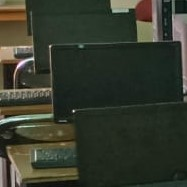monitor: (50, 40, 180, 125), (75, 98, 187, 187), (30, 8, 135, 75), (25, 0, 110, 35)
